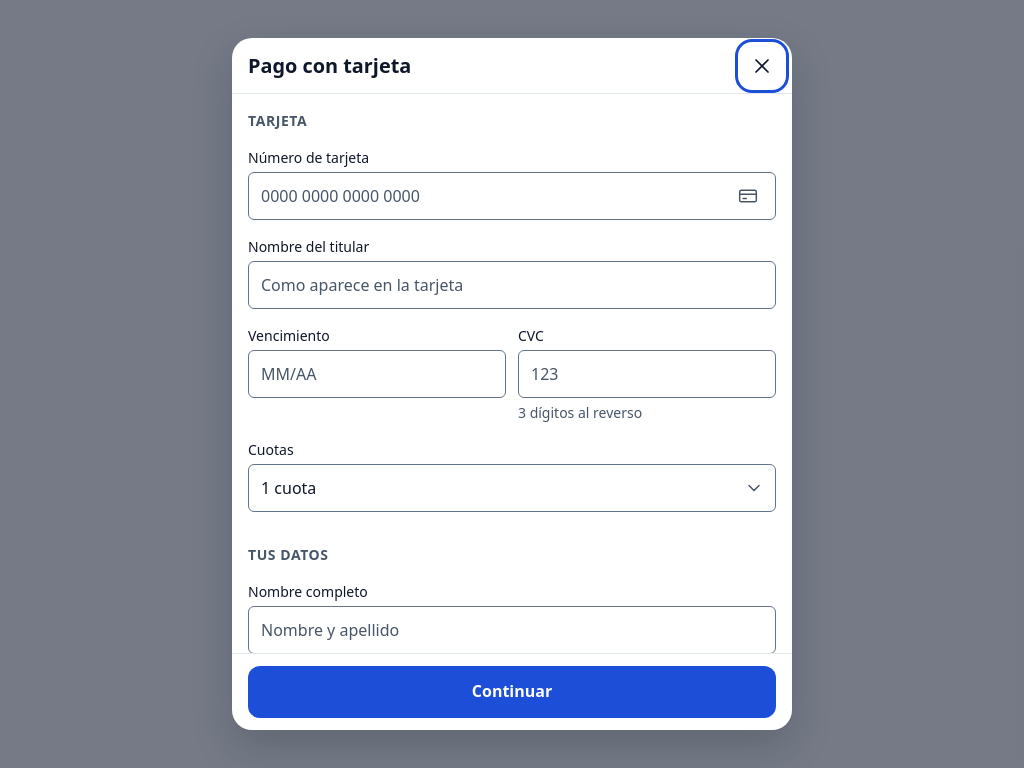
Test: CheckoutModal › delivers to the customer by default and asks for another recipient otherwise
In the field labelled "Nombre completo": (512,630) x1=248 y1=606 x2=776 y2=654, type "Ana María Gómez"
(page scrolled)
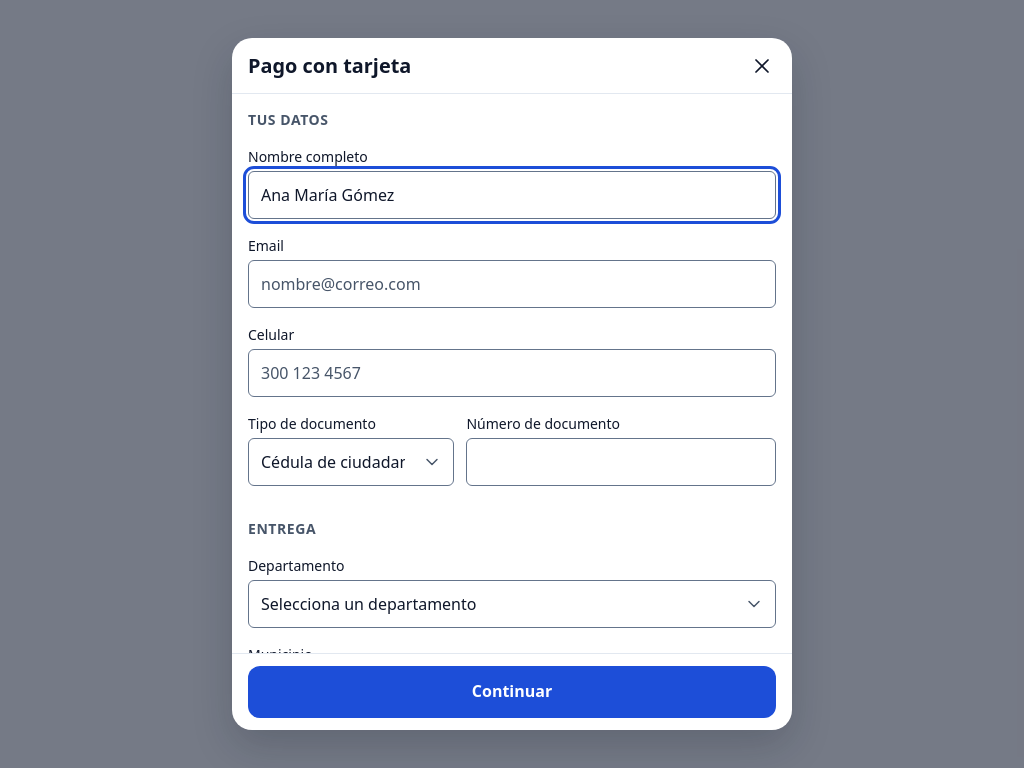
In the field labelled "Celular": (512,373) x1=248 y1=349 x2=776 y2=397, type "3001234567"
(page scrolled)
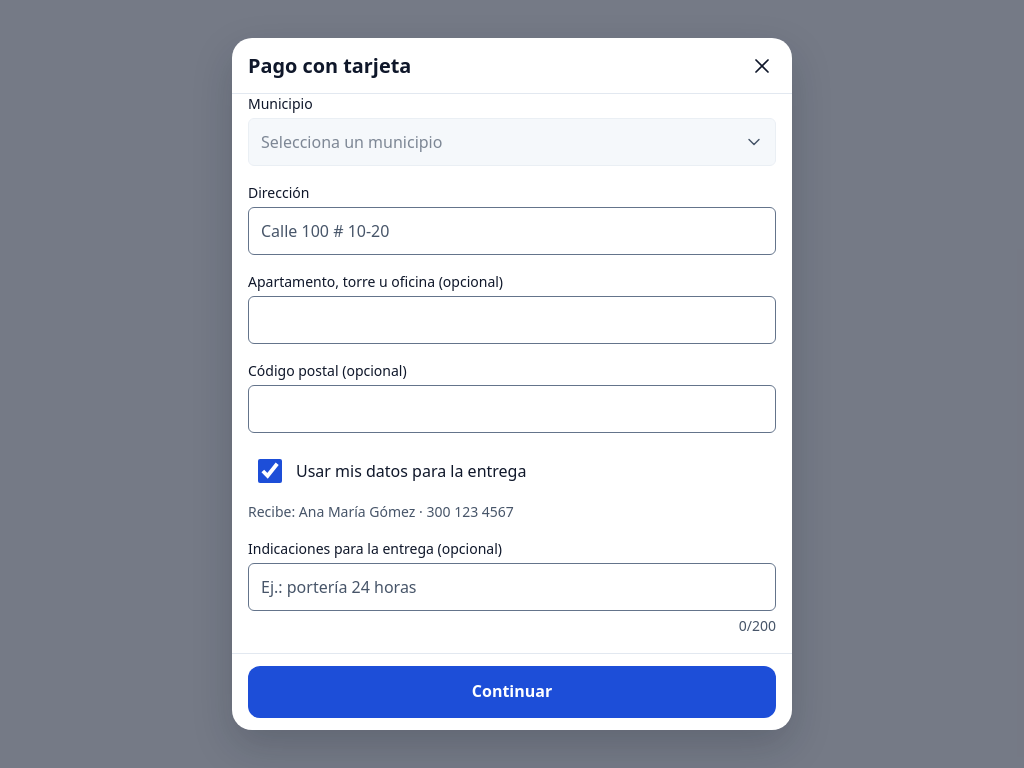
Expected: the field labelled "Nombre de quien recibe" is not shown
Expected: the text "Recibe: Ana María Gómez · 300 123 4567" is shown, x1=248 y1=502 x2=514 y2=521
Click the checkbox labelled "Usar mis datos para la entrega": (270,471) x1=258 y1=459 x2=282 y2=483
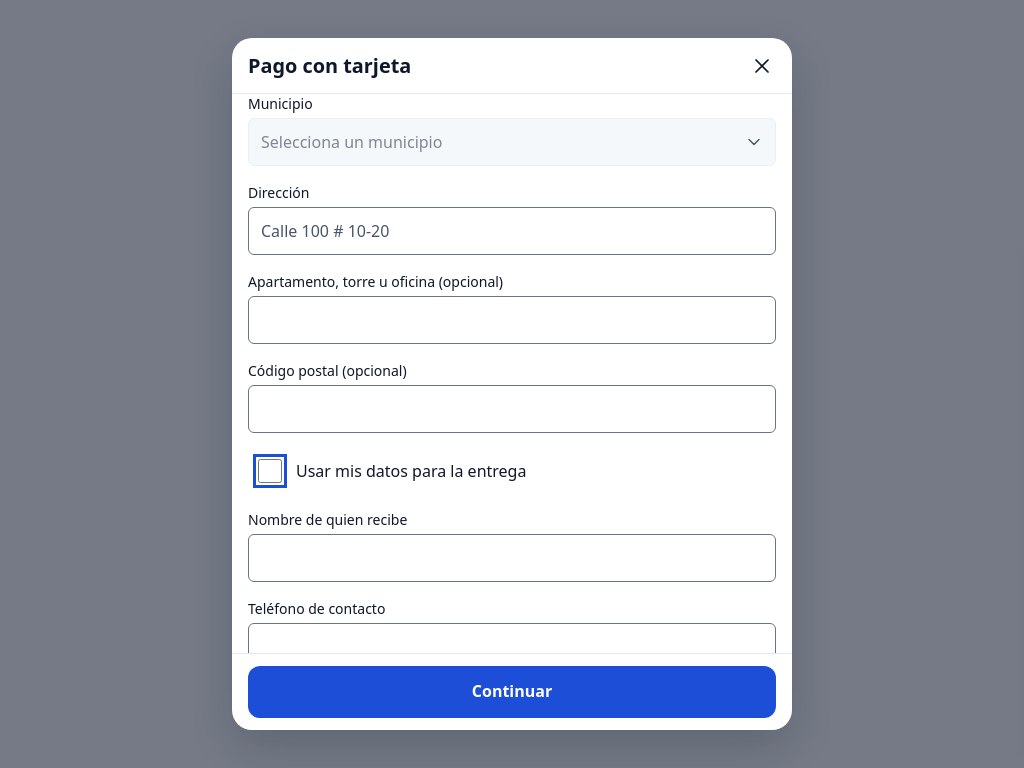
Expected: the field labelled "Nombre de quien recibe" is shown, x1=248 y1=534 x2=776 y2=582
Expected: the field labelled "Teléfono de contacto" is shown, x1=248 y1=623 x2=776 y2=653
Expected: the text "Recibe:" is gone
